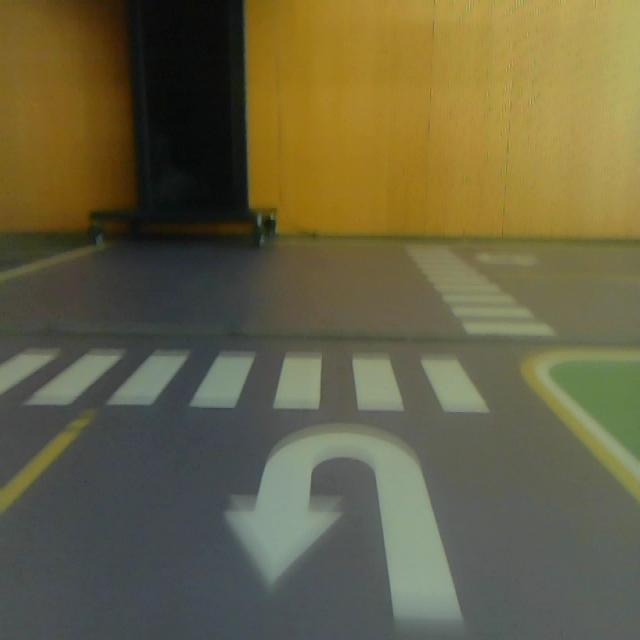left_lane: (0, 409, 105, 520)
right_lane: (517, 361, 640, 502)
